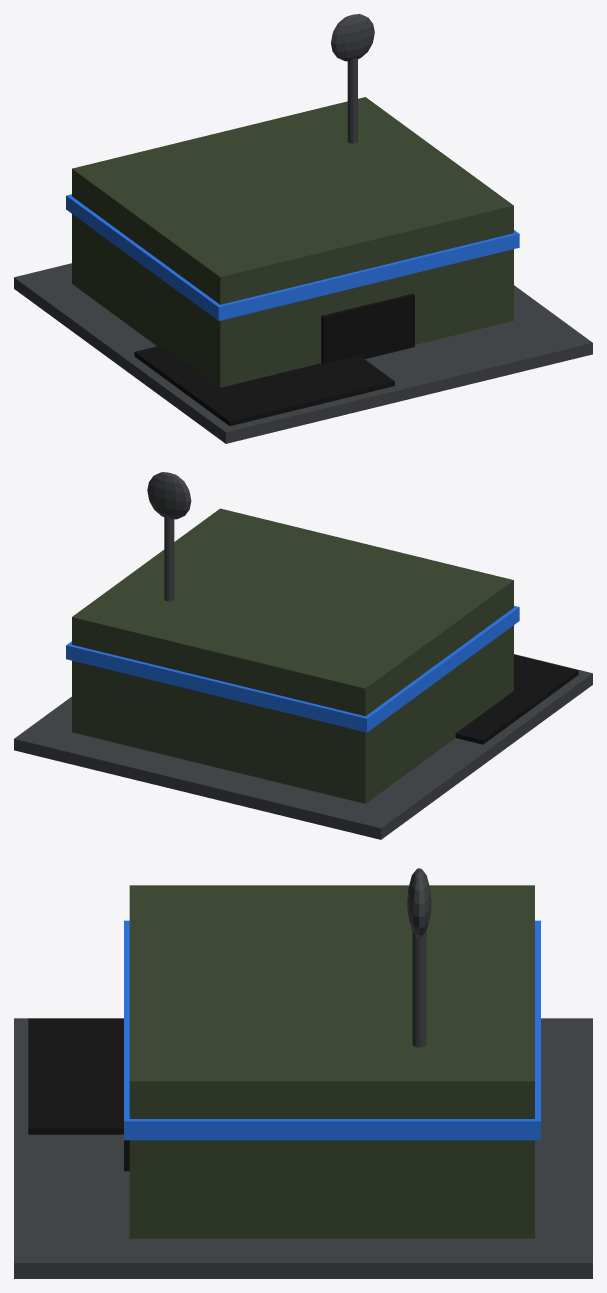
The model's file is ru_drone_launch_site.glb.
3 views of the same model, one above another, from view 1: azimuth 30°, elevation 25°; view 2: azimuth 150°, elevation 25°; view 3: azimuth 270°, elevation 25° (orthographic). The views are drawn at different scales.
Visible parts, largest first — view 1: main, base, pad, team_band, door, dish, mast; view 2: main, base, team_band, pad, dish, mast; view 3: main, base, team_band, pad, mast, dish.
Boxes of the visible parts, x1,y1,x2,y2 form: main: (72, 97, 513, 387); base: (14, 263, 592, 443); pad: (134, 345, 394, 425); team_band: (66, 194, 519, 320); door: (321, 293, 414, 364); dish: (331, 14, 374, 61); mast: (347, 58, 357, 143); main: (72, 508, 513, 803); base: (14, 654, 592, 839); team_band: (66, 606, 519, 732); pad: (455, 654, 578, 744); dish: (147, 472, 191, 519); mast: (164, 516, 174, 601); main: (129, 885, 534, 1238); base: (14, 1018, 592, 1278); team_band: (124, 920, 540, 1140); pad: (28, 1018, 123, 1134); mast: (412, 931, 426, 1047); dish: (407, 868, 431, 937).
Bounding box in the file's own units: 10 × 6.6 × 10.
